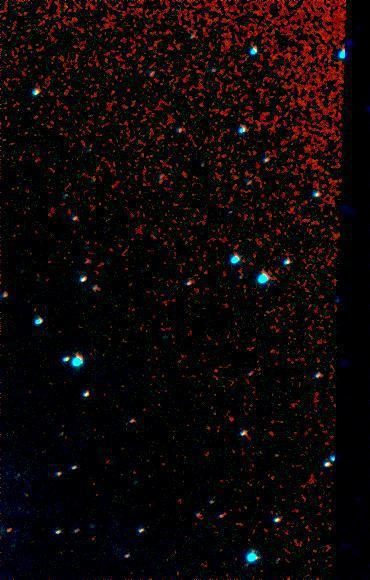star: (0, 517, 27, 547)
